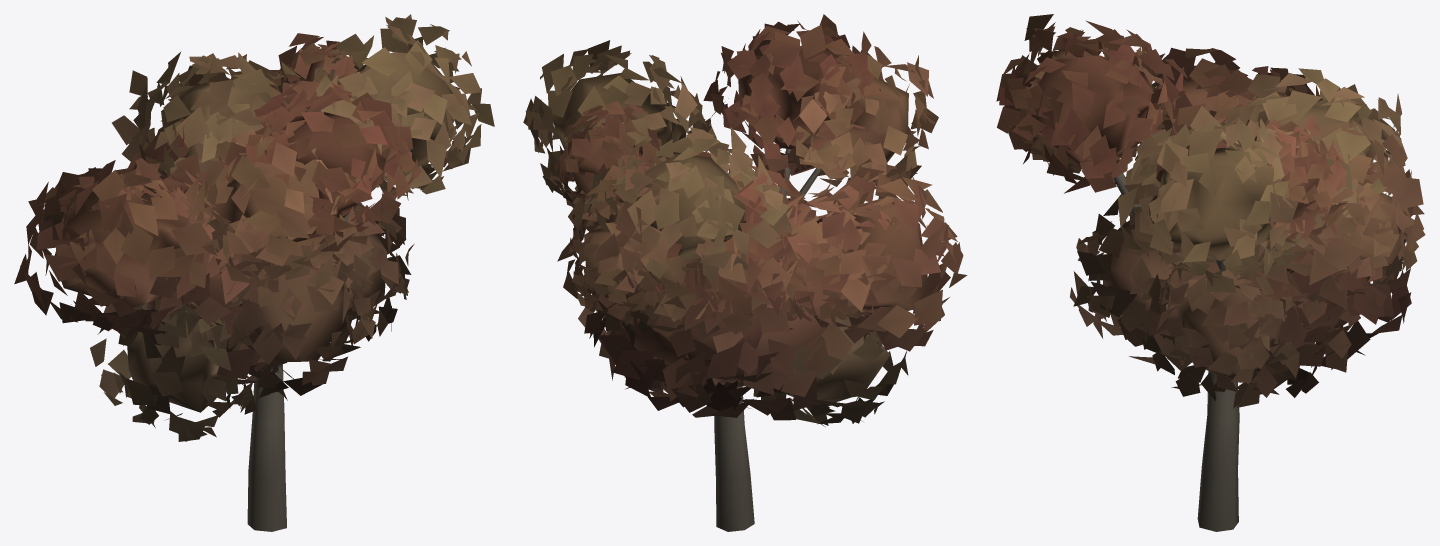
The model's file is lenga_a.glb.
The picture shows the model from 3 angles, left to right: view 1: azimuth 30°, elevation 25°; view 2: azimuth 150°, elevation 25°; view 3: azimuth 270°, elevation 25°; orthographic projection. The views are drawn at different scales.
Visible parts, largest first — view 1: LengaAHojas, LengaACopa, LengaATronco; view 2: LengaAHojas, LengaACopa, LengaATronco; view 3: LengaAHojas, LengaACopa, LengaATronco.
Boxes of the visible parts, left/top/right/bottom form: LengaAHojas: left=14, top=14, right=494, bottom=441; LengaACopa: left=54, top=52, right=455, bottom=412; LengaATronco: left=247, top=206, right=355, bottom=531; LengaAHojas: left=523, top=14, right=967, bottom=427; LengaACopa: left=552, top=45, right=928, bottom=402; LengaATronco: left=714, top=148, right=821, bottom=531; LengaAHojas: left=996, top=14, right=1425, bottom=408; LengaACopa: left=1031, top=51, right=1401, bottom=375; LengaATronco: left=1113, top=173, right=1239, bottom=531.
Size of what is drawn, in the model's own units: 5.48 by 5.67 by 4.49.
